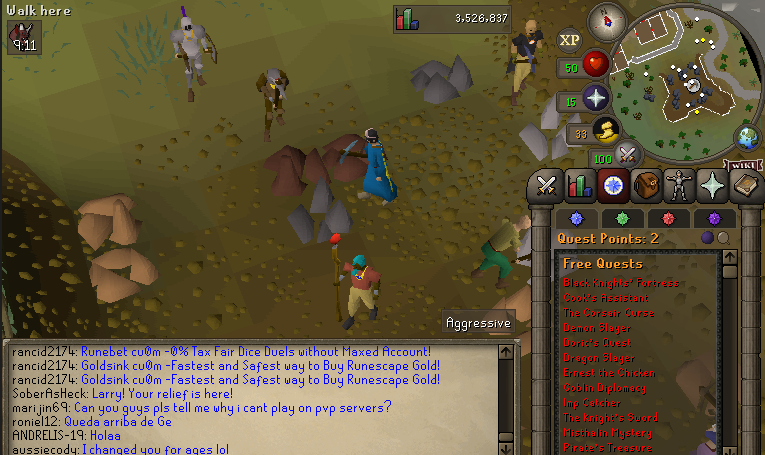depleted: (284, 182, 357, 246), (408, 53, 479, 110)
iron: (261, 137, 336, 198), (320, 127, 386, 187)
